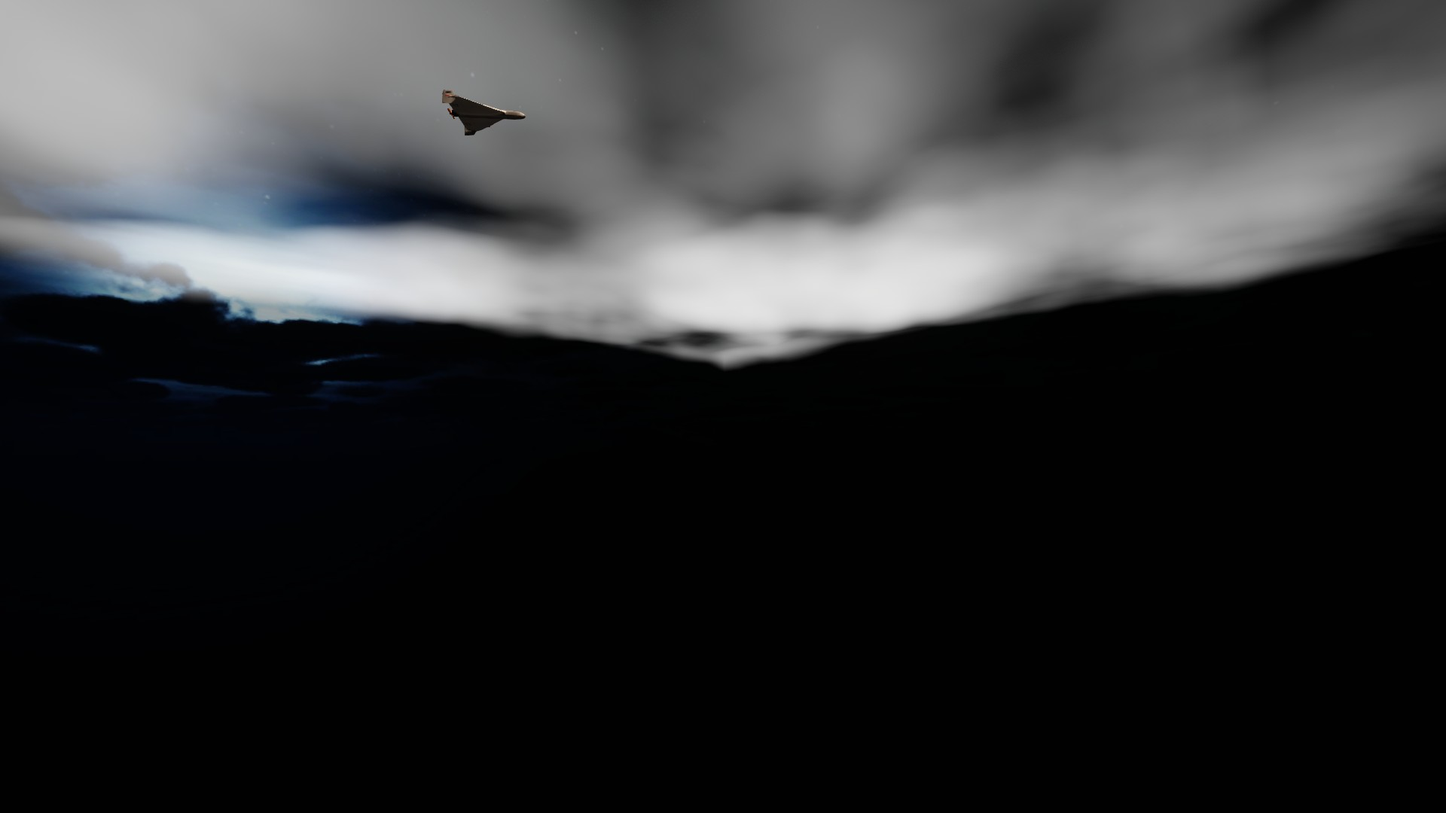shahed: (442, 90, 526, 136)
